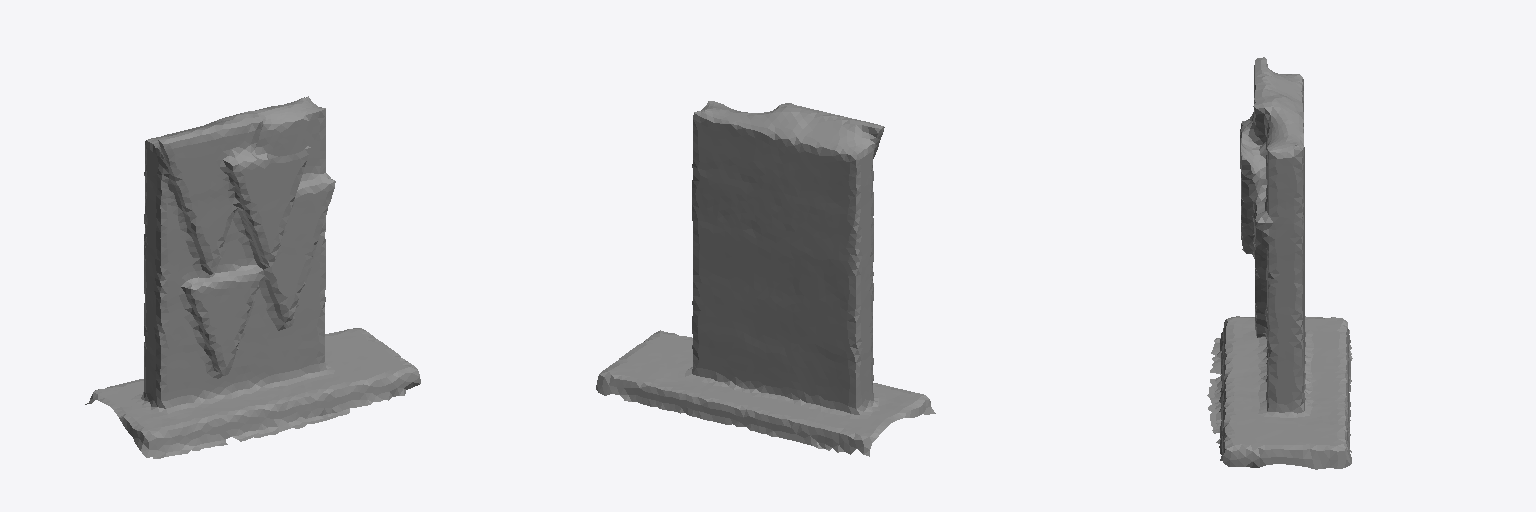
The model's file is lods.obj.
The picture shows the model from 3 angles: view 1: azimuth 30°, elevation 25°; view 2: azimuth 150°, elevation 25°; view 3: azimuth 270°, elevation 25°; orthographic projection.
Visible parts, largest first — view 1: texturedMesh_2k_35k; view 2: texturedMesh_2k_35k; view 3: texturedMesh_2k_35k.
Boxes of the visible parts, box(x1,y1,x2,y2) form: texturedMesh_2k_35k: box(85, 96, 420, 458); texturedMesh_2k_35k: box(596, 101, 935, 456); texturedMesh_2k_35k: box(1207, 57, 1352, 469).
Bounding box in the file's own units: 1.51 × 1.51 × 0.6731.